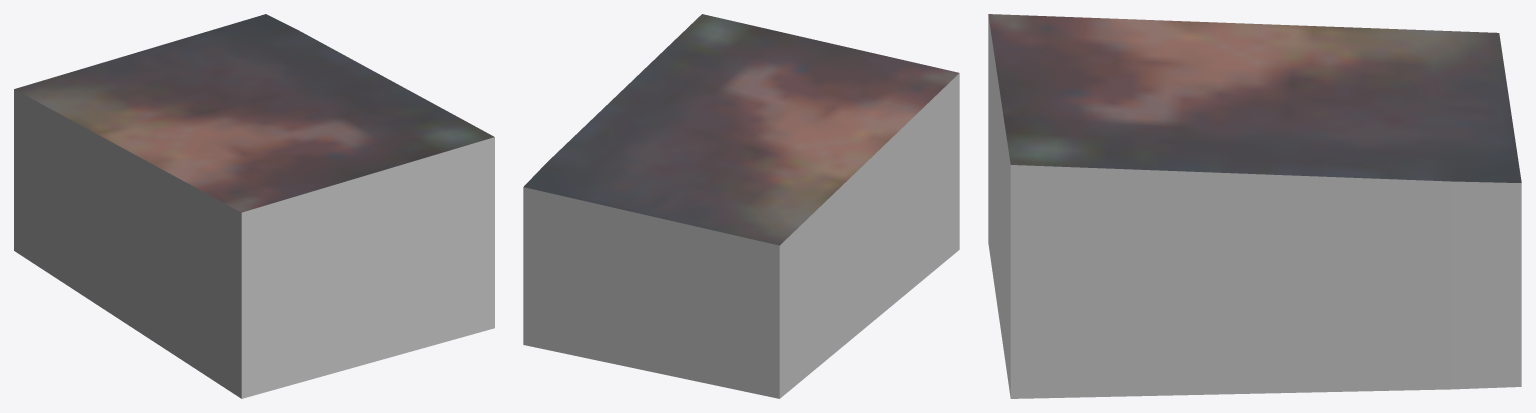
Rendered from DEBW_0010007Txex.gltf.
3 views of the same model, side by side, from view 1: azimuth 30°, elevation 25°; view 2: azimuth 150°, elevation 25°; view 3: azimuth 270°, elevation 25° (orthographic). The views are drawn at different scales.
Parts seen in each view (by area): view 1: Z_UP; view 2: Z_UP; view 3: Z_UP.
Part boxes in pixels (box(x1,y1,x2,y2)): Z_UP: box(14, 14, 494, 398); Z_UP: box(523, 14, 959, 398); Z_UP: box(988, 14, 1521, 398).
Bounding box in the file's own units: 4.6 × 2.99 × 6.17.
2 materials, 1 textured.
